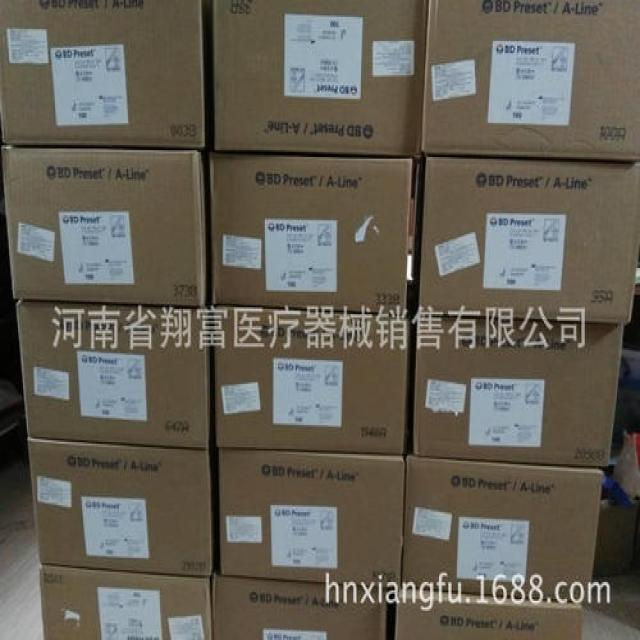box: (419, 155, 639, 323), (422, 0, 639, 160), (214, 0, 427, 155), (210, 151, 412, 314), (1, 147, 206, 307), (415, 314, 623, 466), (0, 1, 205, 147), (403, 456, 604, 603), (15, 298, 209, 447), (215, 307, 409, 454), (219, 450, 403, 591), (28, 439, 213, 576), (40, 566, 214, 638), (212, 574, 387, 638), (397, 588, 582, 638)
